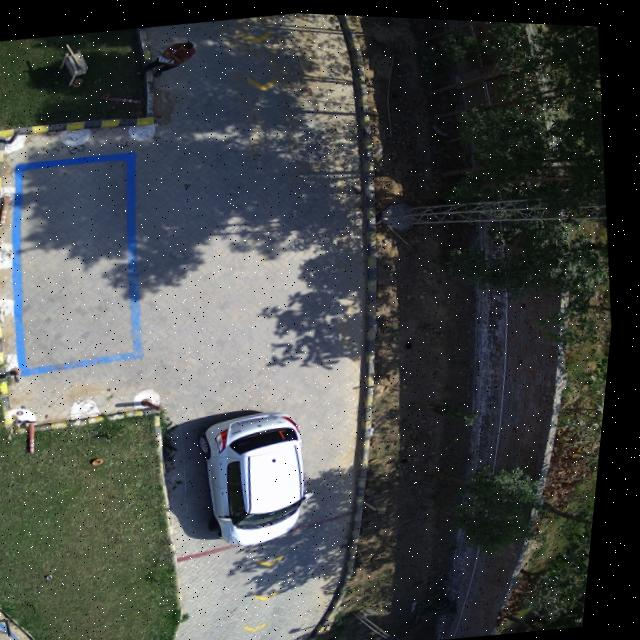car: (207, 409, 321, 544)
